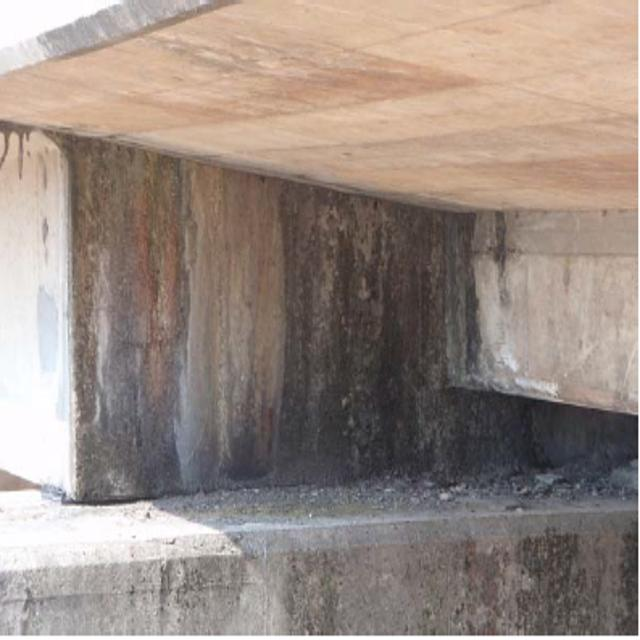leakage: (66, 120, 523, 509)
